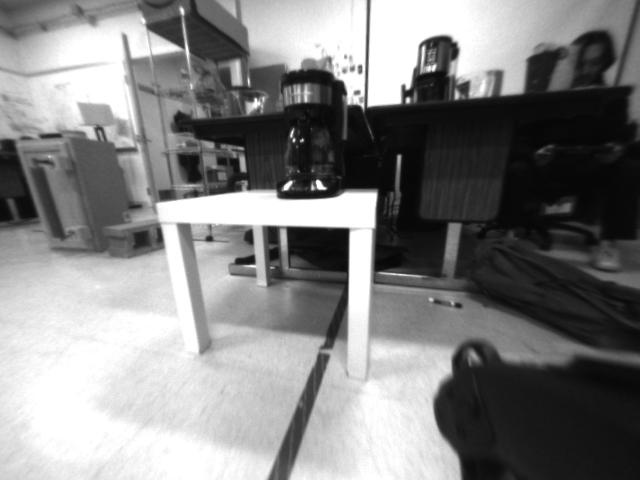coffee_pot: (271, 65, 349, 203)
